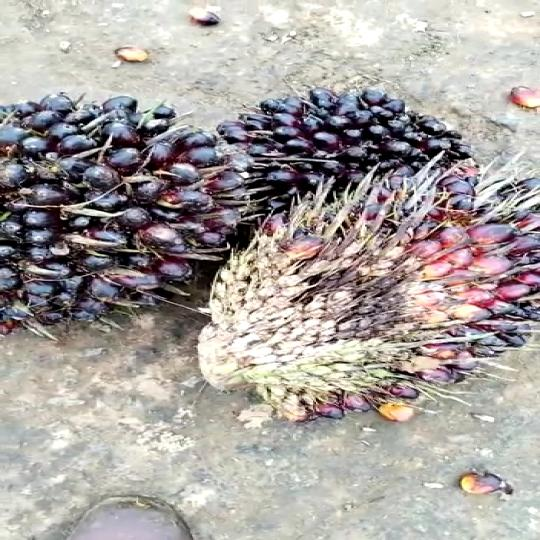kurang masak: (213, 173, 540, 434), (0, 98, 252, 344)
